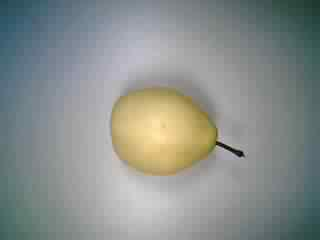pear: (94, 83, 254, 180)
